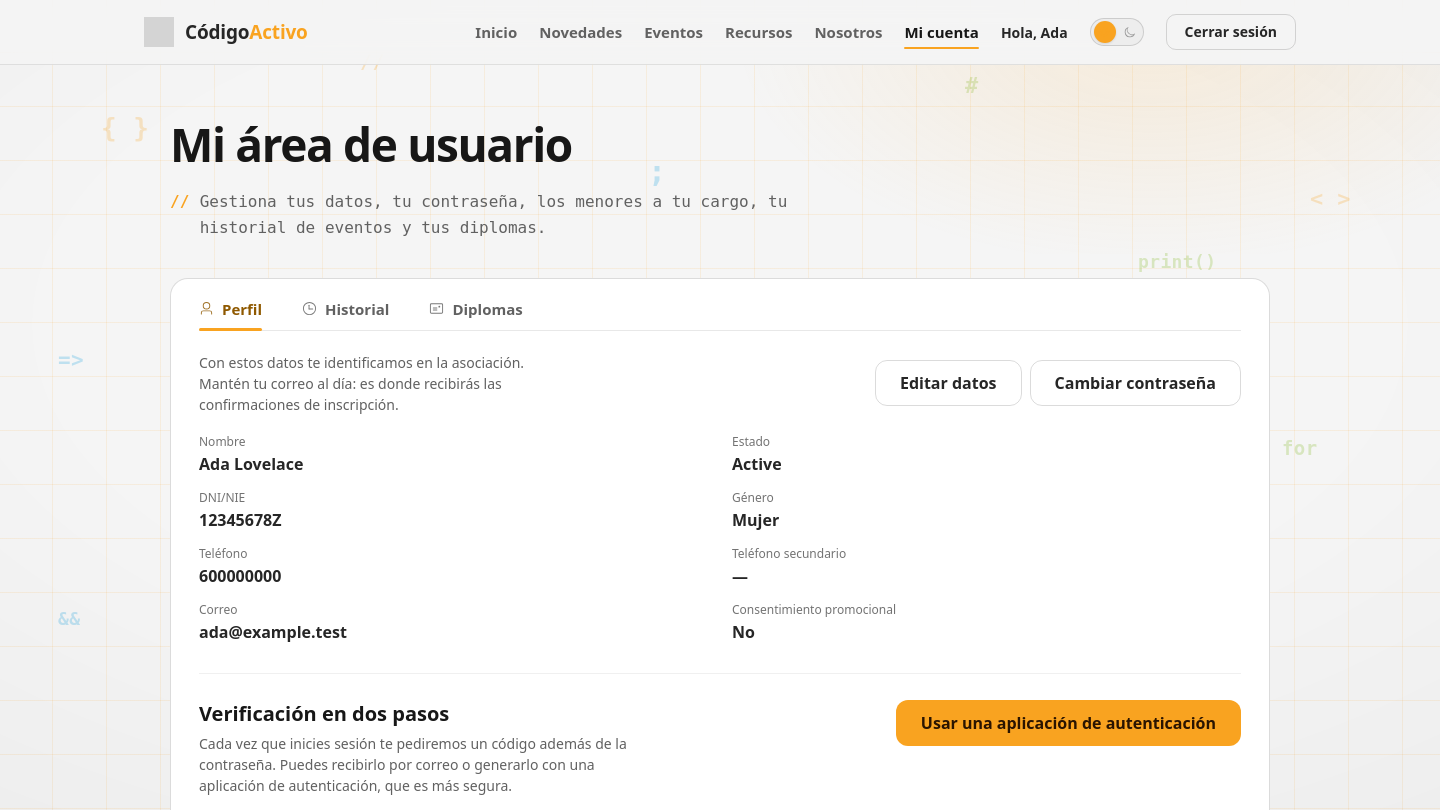
Test case: account page › switches tabs and keeps the selection in the address
Click the tab "Historial".
click(346, 309)  # box [302,299,389,319]
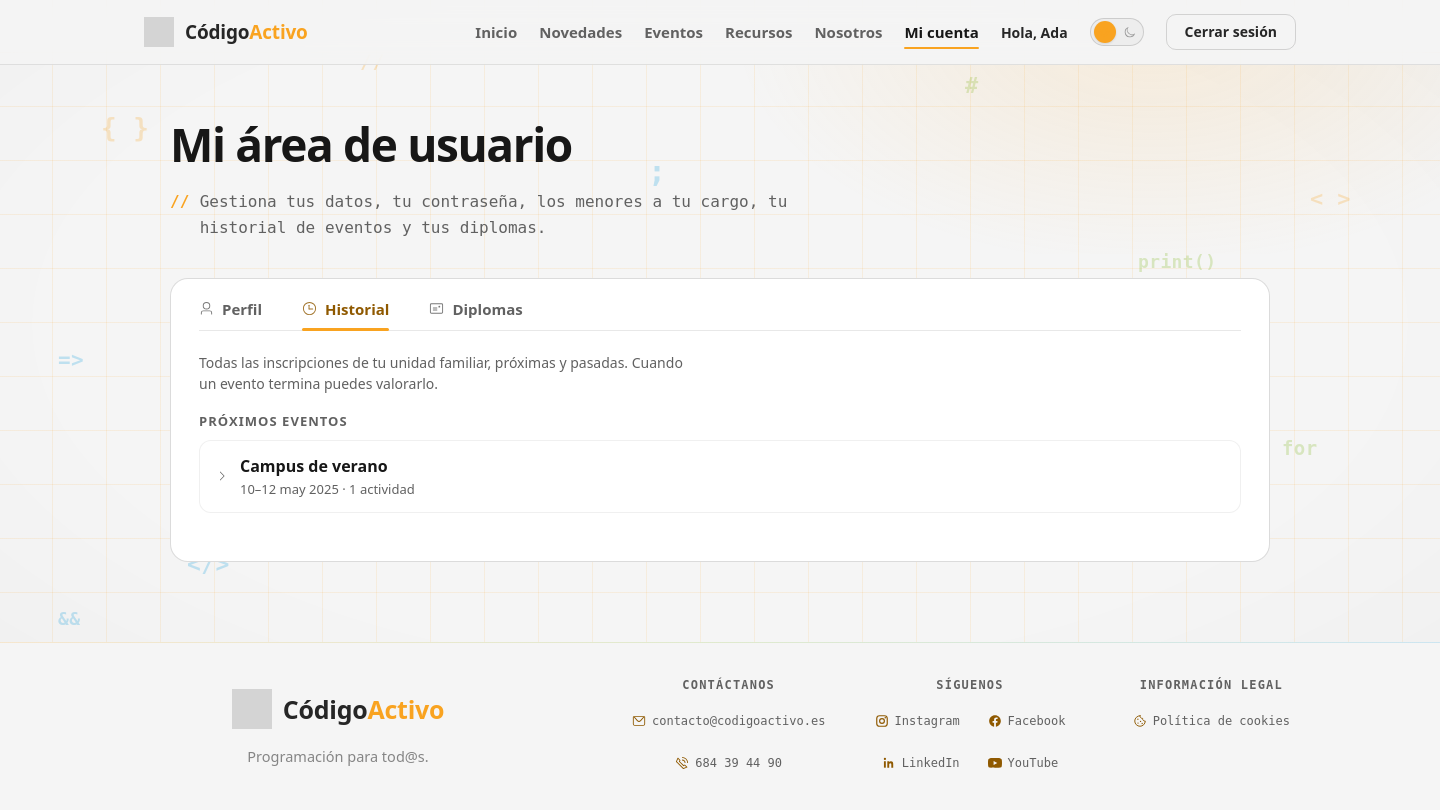
Click the tab "Diplomas".
click(476, 309)  # box [429,299,523,319]
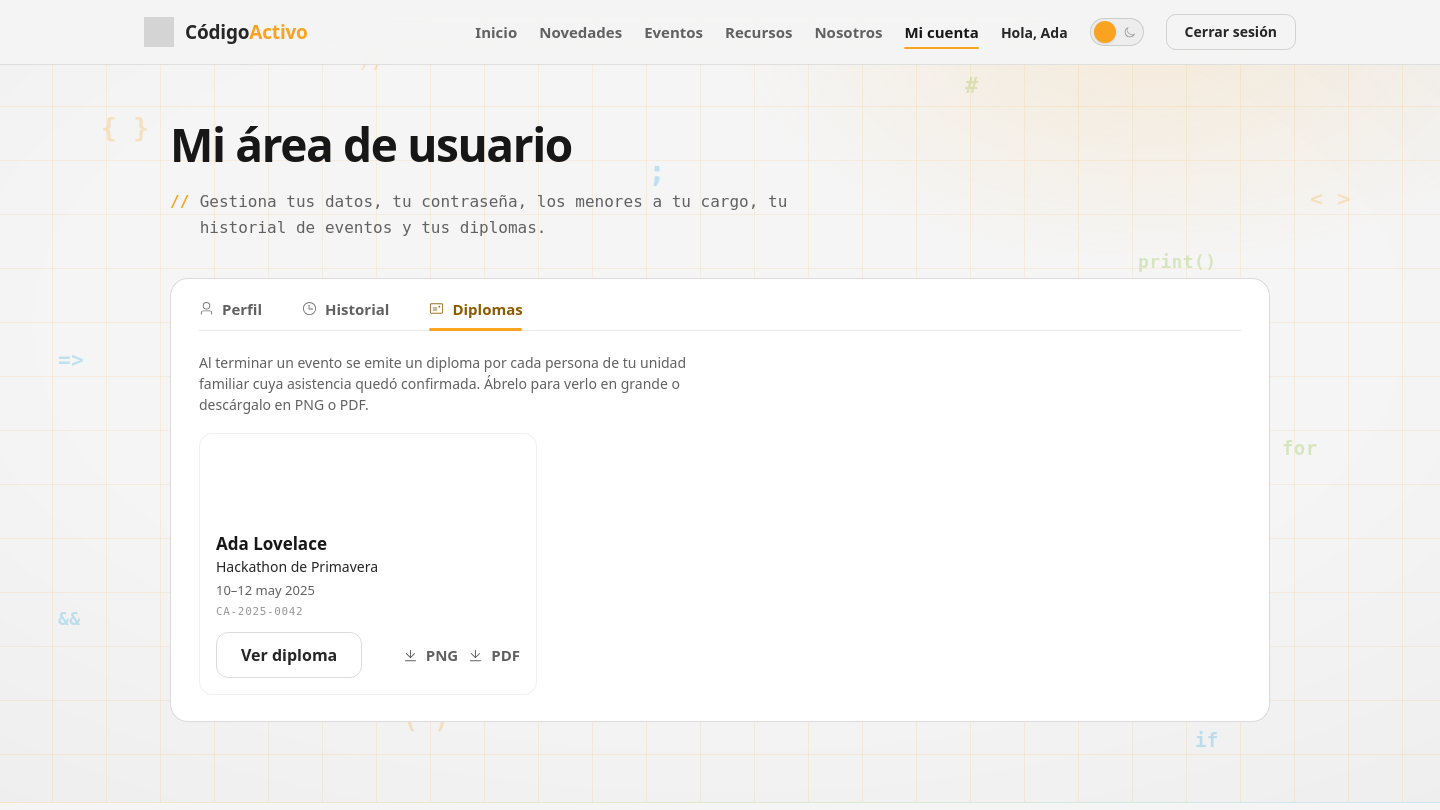
Click the tab "Perfil".
click(231, 309)  # box [199,299,262,319]
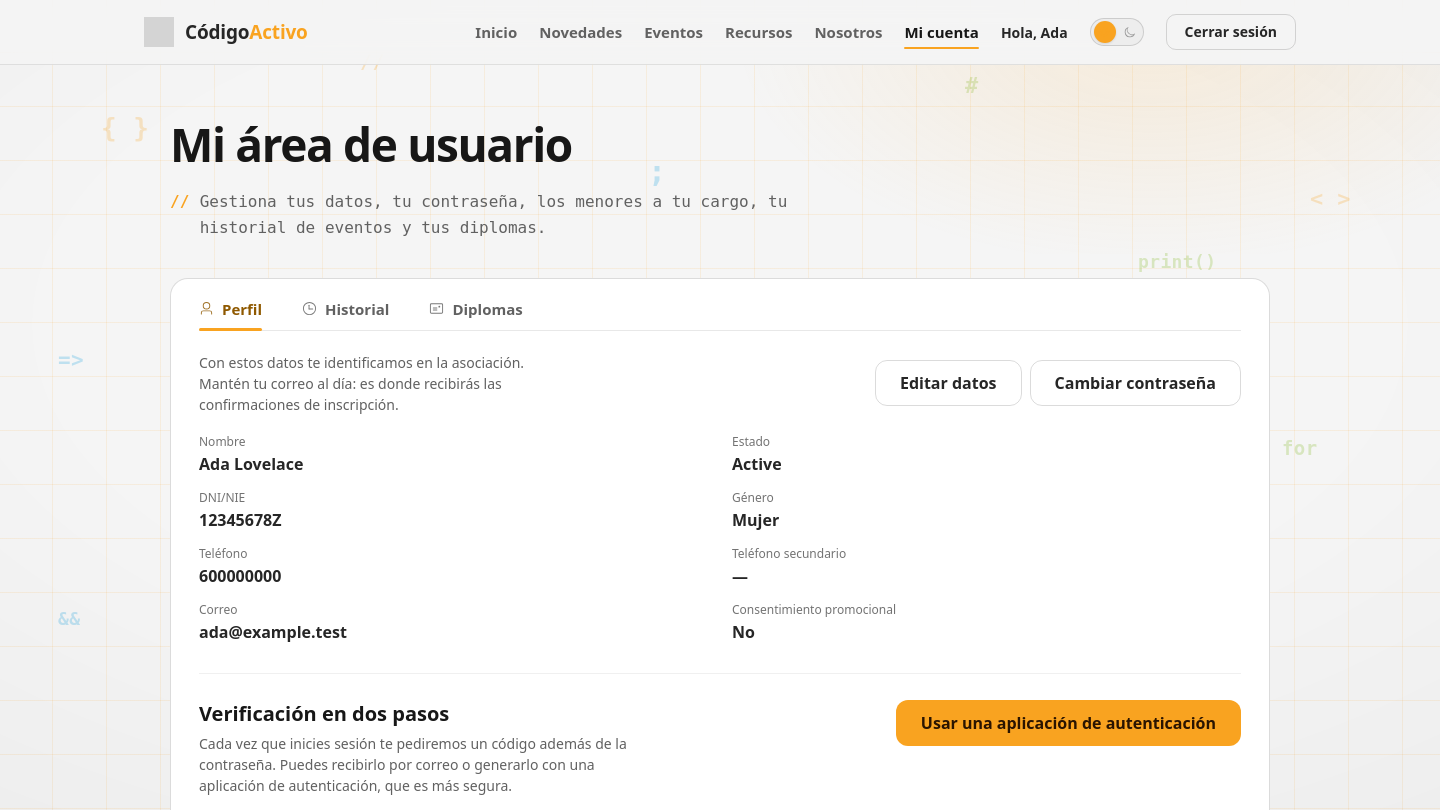
Now the text "Con estos datos te identificamos en la asociación. Mantén tu correo al día: es donde recibirás las confirmaciones de inscripción." is shown, box [199,353,524,414]
